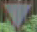Give way: (0, 0, 33, 31)
